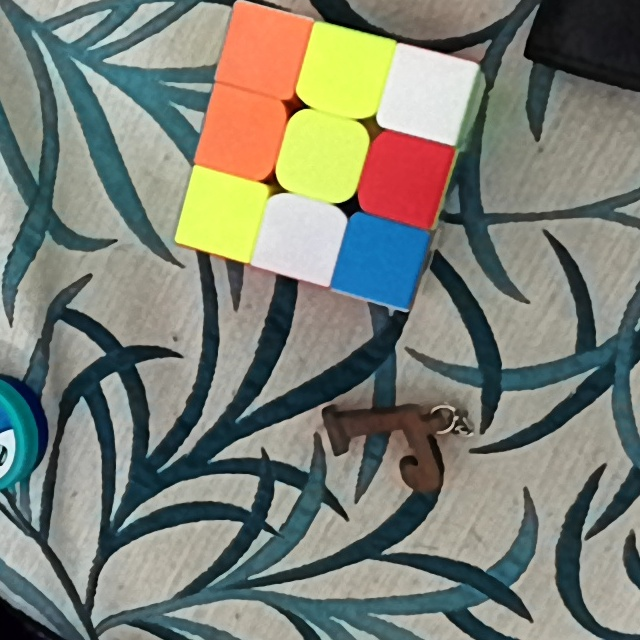tile: (372, 149, 434, 212), (211, 103, 273, 166), (290, 128, 351, 191), (348, 235, 414, 291), (394, 68, 458, 125), (310, 46, 375, 101), (270, 208, 331, 266), (232, 26, 293, 80), (191, 191, 247, 243)
